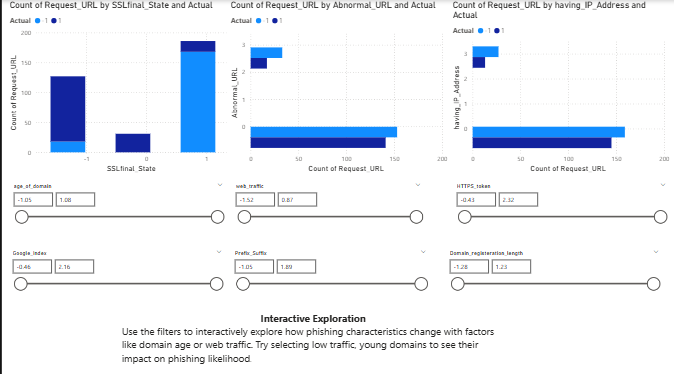

The page's visual inventory and layout, read from the dashboard file:
{"tool":"powerbi","page":{"name":"Interactive filtering","canvas":[1280,720],"ordinal":3},"visuals":[{"type":"columnChart","fields":{"Category":["phishing_predictions.SSLfinal_State"],"Series":["phishing_predictions.Actual"],"Y":["CountNonNull(phishing_predictions.Request_URL)"]},"box":[10.1,0,421.6,332.6],"z":0},{"type":"clusteredBarChart","fields":{"Category":["phishing_predictions.Abnormal_URL"],"Series":["phishing_predictions.Actual"],"Y":["CountNonNull(phishing_predictions.Request_URL)"]},"box":[428.3,0,421.6,332.6],"z":1000},{"type":"clusteredBarChart","fields":{"Category":["phishing_predictions.having_IP_Address"],"Series":["phishing_predictions.Actual"],"Y":["CountNonNull(phishing_predictions.Request_URL)"]},"box":[850,0,421.6,332.6],"z":2000},{"type":"slicer","fields":{"Values":["phishing_predictions.age_of_domain"]},"box":[10.1,342.7,421.6,107.5],"z":3000},{"type":"slicer","fields":{"Values":["phishing_predictions.web_traffic"]},"box":[431.7,342.7,376.3,107.5],"z":4000},{"type":"slicer","fields":{"Values":["phishing_predictions.Google_Index"]},"box":[6.7,468.7,421.6,104.1],"z":5000},{"type":"slicer","fields":{"Values":["phishing_predictions.Prefix_Suffix"]},"box":[428.3,468.7,388,104.1],"z":6000},{"type":"slicer","fields":{"Values":["phishing_predictions.HTTPS_token"]},"box":[850,342.7,421.6,122.6],"z":7000},{"type":"slicer","fields":{"Values":["phishing_predictions.Domain_registeration_length"]},"box":[838.2,468.7,421.6,117.6],"z":8000},{"type":"textbox","box":[221.7,586.2,737.4,115.9],"z":9000}]}

Visuals, with their boxes in screenshot pixels (x1, y1, x2, y2), scaled from the page's 1280x720 canvas onto the 674x374 screenshot:
columnChart - phishing_predictions.SSLfinal_State x phishing_predictions.Actual: 5:0:227:173
clusteredBarChart - phishing_predictions.Abnormal_URL x phishing_predictions.Actual: 226:0:448:173
clusteredBarChart - phishing_predictions.having_IP_Address x phishing_predictions.Actual: 448:0:670:173
slicer - phishing_predictions.age_of_domain: 5:178:227:234
slicer - phishing_predictions.web_traffic: 227:178:425:234
slicer - phishing_predictions.Google_Index: 4:243:226:298
slicer - phishing_predictions.Prefix_Suffix: 226:243:430:298
slicer - phishing_predictions.HTTPS_token: 448:178:670:242
slicer - phishing_predictions.Domain_registeration_length: 441:243:663:305
textbox: 117:304:505:365
